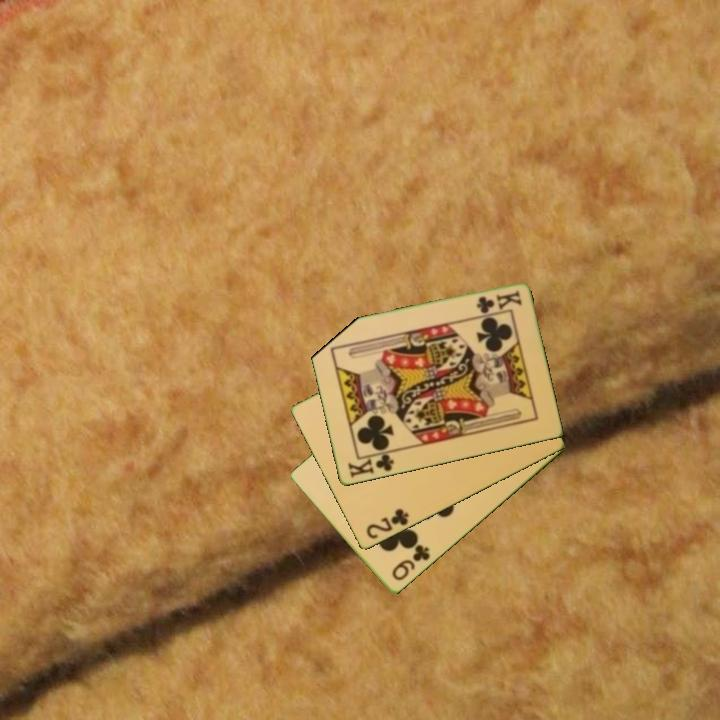2c: (363, 505, 412, 542)
9c: (388, 541, 433, 584)
Kc: (344, 448, 397, 481), (473, 287, 525, 316)
